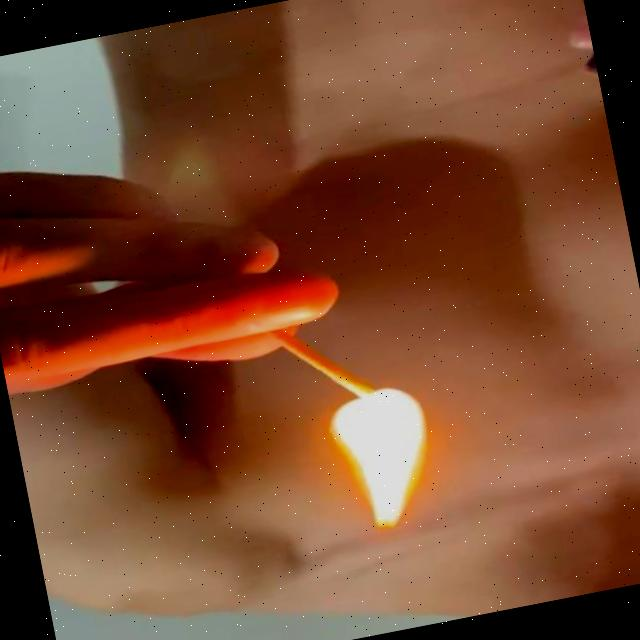fire: (320, 377, 449, 540)
